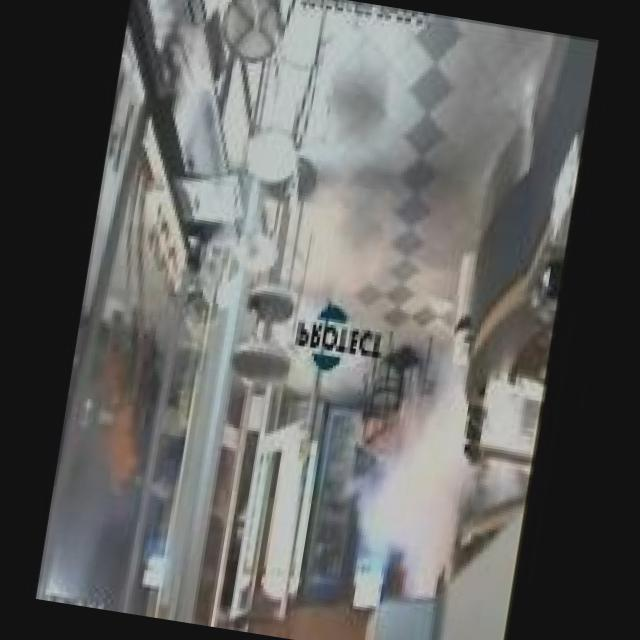smoke: (350, 322, 536, 600)
